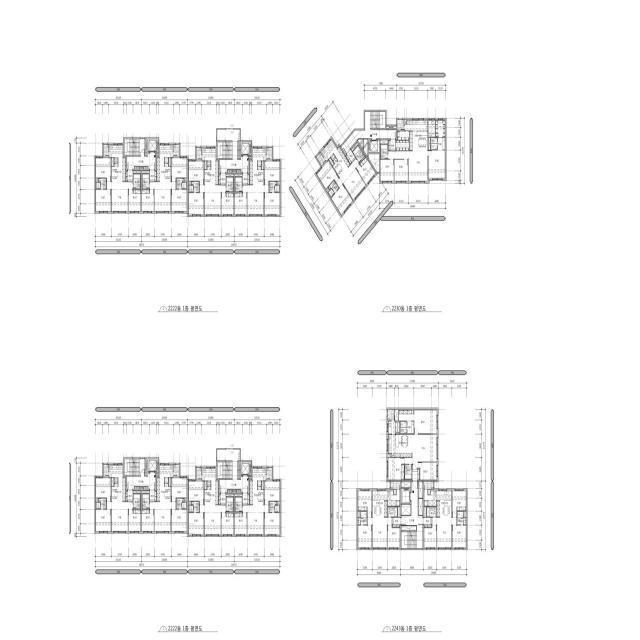space_balconi: (316, 152, 326, 166), (397, 119, 404, 130)
space_bedroom: (331, 184, 353, 215), (316, 161, 339, 189), (356, 157, 376, 185), (414, 410, 437, 433), (429, 150, 445, 179), (95, 157, 111, 181), (188, 160, 204, 184), (188, 480, 204, 504), (95, 477, 111, 501), (358, 491, 372, 517), (452, 491, 466, 517), (172, 157, 187, 181), (265, 160, 280, 184), (172, 477, 187, 501), (265, 480, 280, 504), (188, 513, 204, 535), (188, 193, 204, 215), (95, 190, 111, 212), (388, 458, 404, 480), (95, 510, 111, 532), (418, 462, 437, 480), (265, 193, 280, 215), (172, 190, 187, 212), (172, 510, 187, 532), (265, 513, 280, 535), (380, 160, 394, 182), (452, 525, 466, 547), (358, 525, 372, 547), (128, 190, 141, 212), (395, 160, 408, 182), (221, 193, 234, 215), (424, 525, 437, 547), (128, 510, 141, 532), (221, 513, 234, 535), (142, 190, 154, 212), (235, 193, 247, 215), (388, 525, 400, 547), (142, 510, 154, 532), (235, 513, 247, 535)
space_dressroom: (399, 410, 414, 421), (436, 119, 445, 137)
space_elevator: (241, 142, 251, 155), (148, 139, 158, 152), (148, 459, 158, 472), (241, 462, 251, 475), (401, 489, 410, 503), (369, 140, 379, 152)
space_elevator_hall: (341, 129, 396, 154), (217, 129, 248, 172), (217, 449, 248, 492), (401, 482, 423, 531), (127, 139, 156, 169), (127, 459, 156, 489)
space_front: (345, 150, 356, 164), (388, 140, 396, 151), (126, 170, 133, 181), (412, 469, 419, 480), (126, 490, 133, 501), (424, 518, 432, 527), (219, 174, 226, 184), (219, 494, 226, 504), (150, 170, 156, 181), (150, 490, 156, 501), (393, 518, 400, 527), (243, 174, 249, 184), (243, 494, 249, 504)
space_kitchen: (321, 139, 350, 177), (424, 490, 452, 518), (373, 490, 400, 518), (405, 119, 428, 151), (157, 144, 174, 182), (109, 144, 126, 182), (202, 147, 219, 185), (109, 464, 126, 502), (202, 467, 219, 505), (157, 464, 174, 502), (250, 148, 266, 185), (250, 468, 266, 505), (388, 435, 412, 457)
space_living_room: (336, 158, 366, 201), (388, 151, 428, 182), (405, 435, 437, 469), (242, 185, 268, 215), (150, 182, 176, 212), (200, 185, 226, 215), (107, 182, 133, 212), (200, 505, 226, 535), (107, 502, 133, 532), (242, 505, 268, 535), (150, 502, 176, 532), (368, 518, 392, 548), (432, 518, 456, 547)
space_other: (369, 154, 379, 172), (388, 420, 400, 434), (428, 120, 435, 137), (396, 141, 409, 150), (397, 131, 409, 140), (401, 505, 411, 515), (363, 139, 368, 157), (418, 482, 423, 498), (418, 499, 423, 515), (351, 142, 358, 151), (401, 526, 416, 530), (358, 139, 363, 149), (401, 482, 411, 487), (329, 158, 334, 165), (238, 142, 240, 158), (145, 139, 147, 155), (380, 140, 388, 144), (238, 462, 240, 478), (145, 459, 147, 475), (386, 126, 396, 129), (133, 170, 141, 173), (133, 490, 141, 493), (396, 410, 398, 421), (142, 170, 149, 173), (142, 490, 149, 493), (424, 507, 426, 517), (398, 507, 400, 517), (226, 174, 234, 176), (169, 158, 171, 166), (262, 161, 264, 169), (112, 158, 114, 166), (169, 478, 171, 486), (262, 481, 264, 489), (112, 478, 114, 486), (226, 494, 234, 496), (235, 174, 242, 176), (235, 494, 242, 496), (429, 138, 430, 150), (326, 188, 329, 192), (464, 511, 466, 517), (358, 511, 360, 517), (188, 181, 191, 184), (95, 178, 98, 181), (388, 454, 391, 457), (95, 498, 98, 501), (188, 501, 191, 504), (139, 167, 143, 169), (205, 161, 206, 169), (232, 170, 236, 172), (228, 170, 232, 172), (144, 167, 148, 169), (135, 167, 139, 169), (237, 170, 241, 172), (139, 487, 143, 489), (232, 490, 236, 492), (205, 481, 206, 489), (228, 490, 232, 492), (144, 487, 148, 489), (135, 487, 139, 489), (237, 490, 241, 492), (185, 178, 187, 181), (278, 181, 280, 184), (428, 491, 430, 494), (394, 491, 396, 494), (185, 498, 187, 501), (278, 501, 280, 504), (405, 120, 406, 124), (156, 154, 158, 155), (249, 157, 251, 158), (249, 477, 251, 478), (156, 474, 158, 475)
space_outdoor_room: (388, 409, 395, 420), (267, 147, 272, 160), (196, 147, 201, 160), (267, 467, 272, 480), (196, 467, 201, 480), (391, 482, 400, 489), (424, 482, 433, 489), (103, 144, 108, 156), (174, 144, 179, 156), (174, 464, 179, 476), (103, 464, 108, 476)
space_staircase: (401, 531, 423, 548), (365, 112, 385, 130), (217, 142, 232, 158), (124, 139, 139, 155), (124, 459, 139, 475), (217, 462, 232, 478)
space_toilet: (328, 180, 339, 197), (353, 146, 364, 163), (431, 138, 445, 150), (400, 421, 414, 433), (457, 512, 466, 525), (358, 512, 367, 524), (142, 174, 149, 188), (235, 177, 242, 191), (226, 177, 233, 191), (133, 174, 140, 188), (381, 145, 388, 159), (133, 494, 140, 508), (226, 497, 233, 511), (235, 497, 242, 511), (405, 465, 412, 479), (142, 494, 149, 508), (388, 507, 397, 517), (427, 507, 436, 517), (176, 178, 184, 189), (176, 498, 184, 509), (269, 182, 277, 192), (191, 182, 199, 192), (191, 502, 199, 512), (269, 502, 277, 512), (99, 178, 106, 189), (99, 498, 106, 509), (189, 505, 193, 512), (189, 185, 193, 192), (275, 185, 279, 192), (182, 182, 186, 189), (96, 182, 100, 189), (182, 502, 186, 509), (275, 505, 279, 512), (96, 502, 100, 509)
